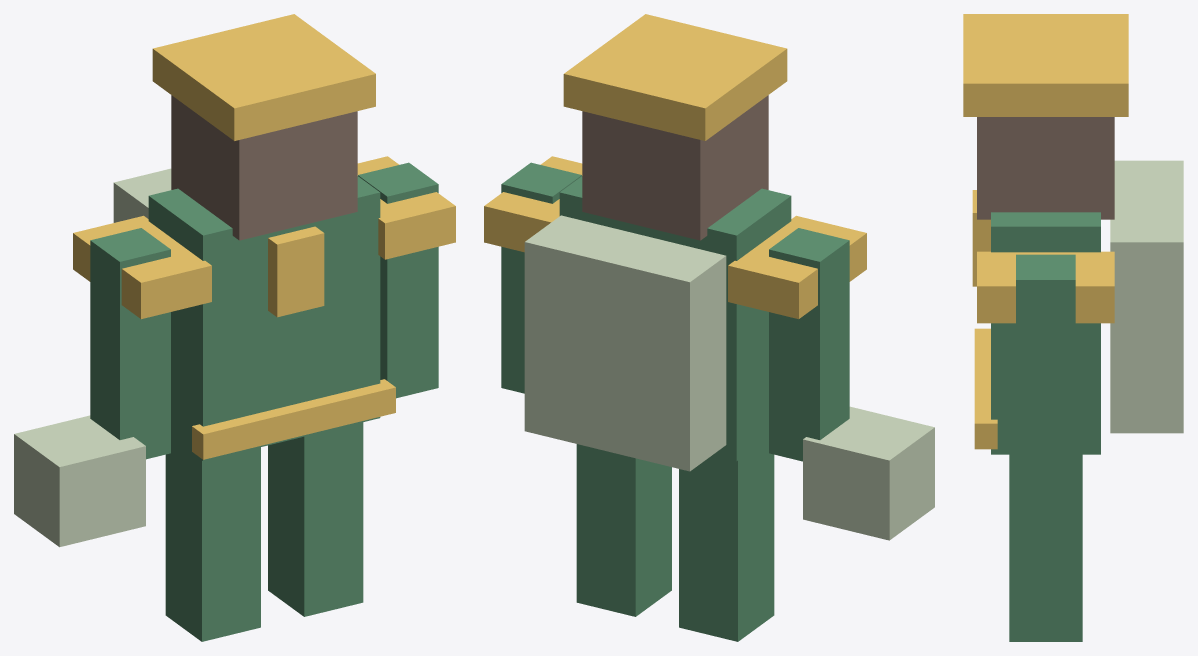
The model's file is 07_calder_wayfare_scout_under_echo.glb.
The picture shows the model from 3 angles, left to right: view 1: azimuth 30°, elevation 25°; view 2: azimuth 150°, elevation 25°; view 3: azimuth 270°, elevation 25°; orthographic projection.
Visible parts, largest first — view 1: Calder Wayfare, Scout under Echo; view 2: Calder Wayfare, Scout under Echo; view 3: Calder Wayfare, Scout under Echo.
Boxes of the visible parts, x1,y1,x2,y2 form: Calder Wayfare, Scout under Echo: (14,14,455,641); Calder Wayfare, Scout under Echo: (484,14,934,641); Calder Wayfare, Scout under Echo: (963,14,1183,641).
Bounding box in the file's own units: 1.06 × 1.41 × 0.5095.
